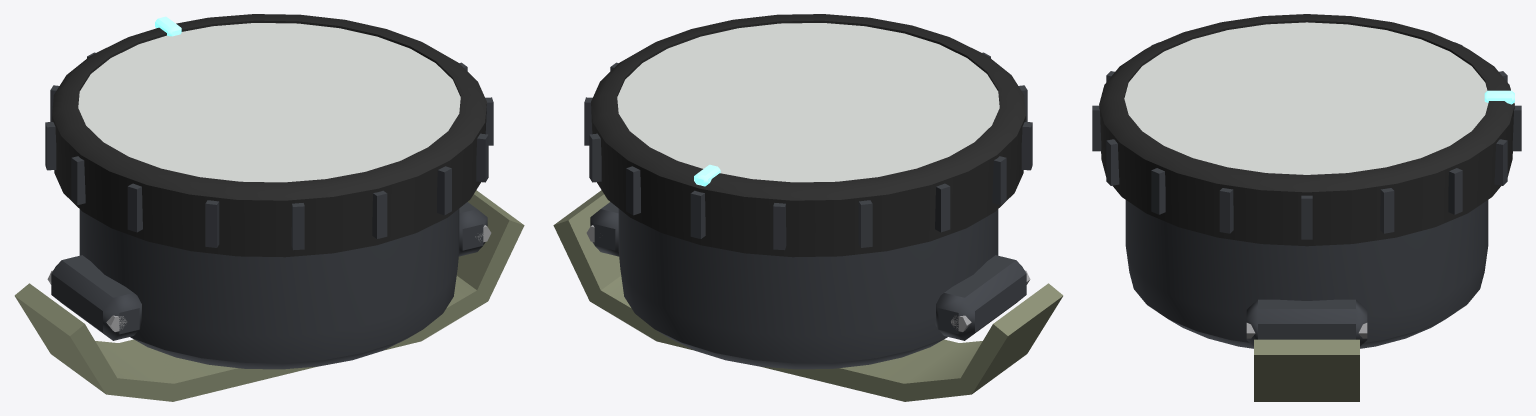
Rendered from compass.glb.
3 renders of one model, left to right at view 1: azimuth 30°, elevation 25°; view 2: azimuth 150°, elevation 25°; view 3: azimuth 270°, elevation 25°, orthographic. The views are drawn at different scales.
Parts seen in each view (by area): view 1: body; view 2: body; view 3: body.
Boxes of the visible parts, x1=… form: body: x1=14, y1=14, x2=524, y2=401; body: x1=553, y1=14, x2=1063, y2=401; body: x1=1092, y1=14, x2=1521, y2=401.
Bounding box in the file's own units: 0.0662 × 0.0355 × 0.0568.
